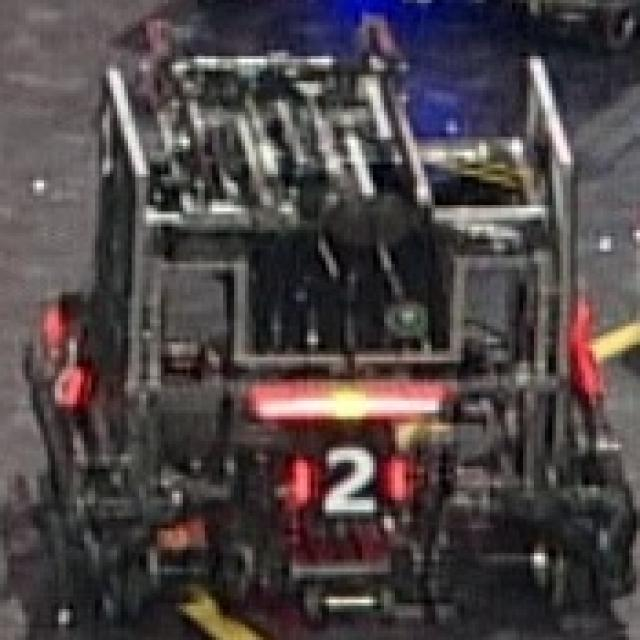R2: (278, 438, 413, 522), (22, 315, 88, 412)
